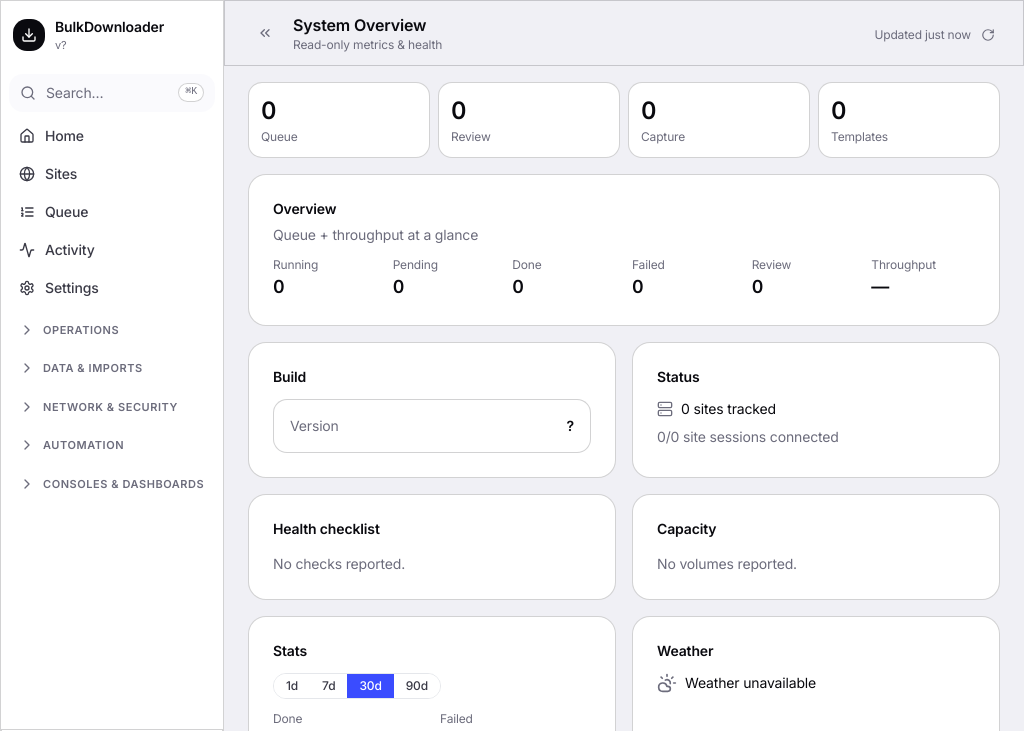
Test: F002 dashboard Stats time-range filter › choosing 7d re-queries both endpoints and swaps the rendered totals
This screenshot has width=1024, height=731.
Click the button "7d" at (329, 686), box [310,674,348,698]
(page scrolled)
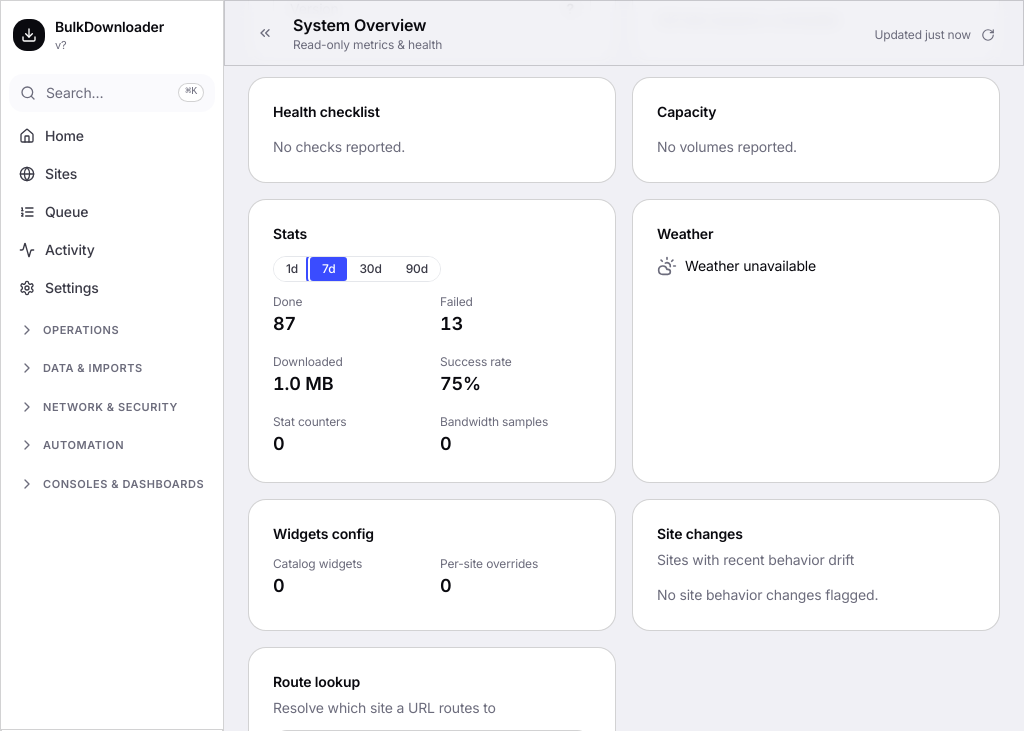
Now the text "1.0 MB" is shown, box [273,373,334,394]
